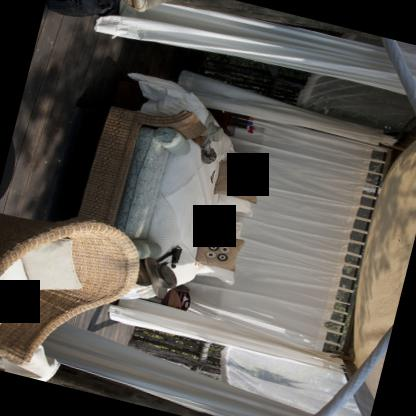backpack: (44, 0, 119, 17), (135, 258, 150, 286)
